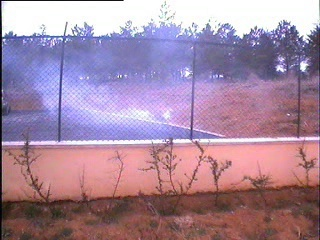smoke: (30, 42, 192, 140)
